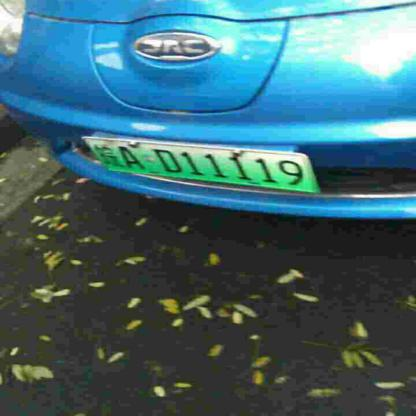lp: (84, 139, 314, 191)
